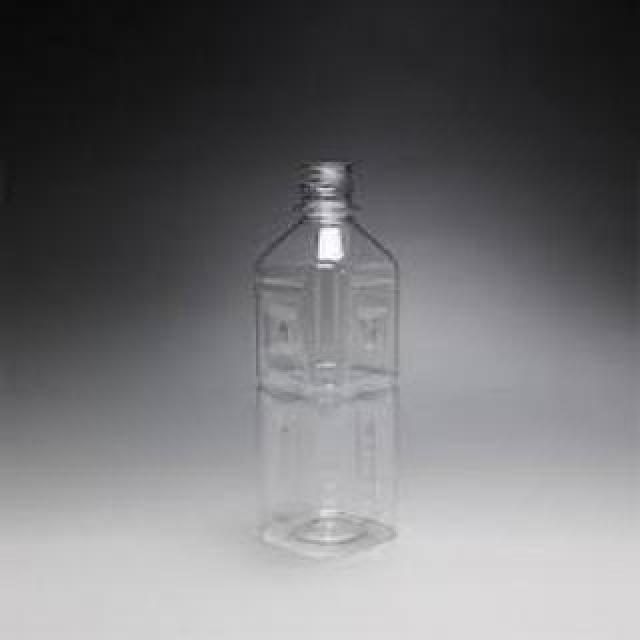Pet_Bottle: (256, 162, 410, 560)
